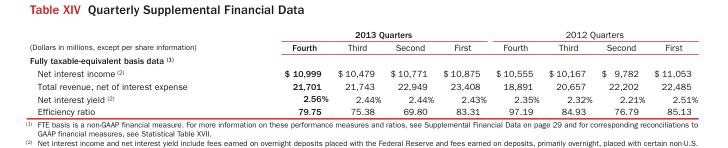table: (28, 28, 696, 116)
table column: (28, 28, 239, 116), (239, 28, 332, 116), (384, 28, 437, 116), (437, 28, 490, 116), (490, 28, 543, 116), (595, 28, 648, 116), (332, 28, 384, 116), (543, 28, 595, 116), (648, 28, 696, 116)
table column header: (28, 28, 696, 53)
table projected row header: (28, 53, 696, 66)
table row: (28, 40, 696, 53), (28, 53, 696, 66), (28, 66, 696, 79), (28, 91, 696, 104), (28, 28, 696, 40), (28, 79, 696, 91), (28, 104, 696, 116)
table spanning cell: (28, 28, 239, 53), (239, 28, 490, 40), (490, 28, 696, 40)
